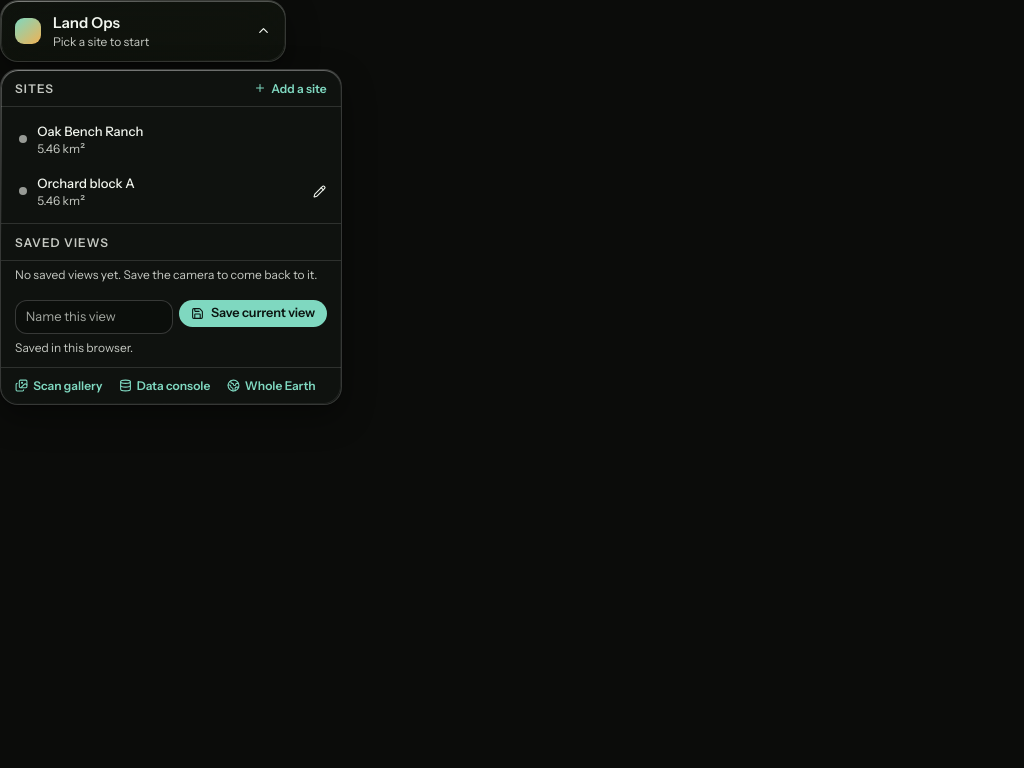
renaming a site in the switcher › saves the trimmed name and shows it in the row
Expected: the text "Orchard block A" is shown, [37, 175, 135, 191]
Click the button named "Rename Orchard block A". click: (319, 191)
box: [306, 177, 333, 205]
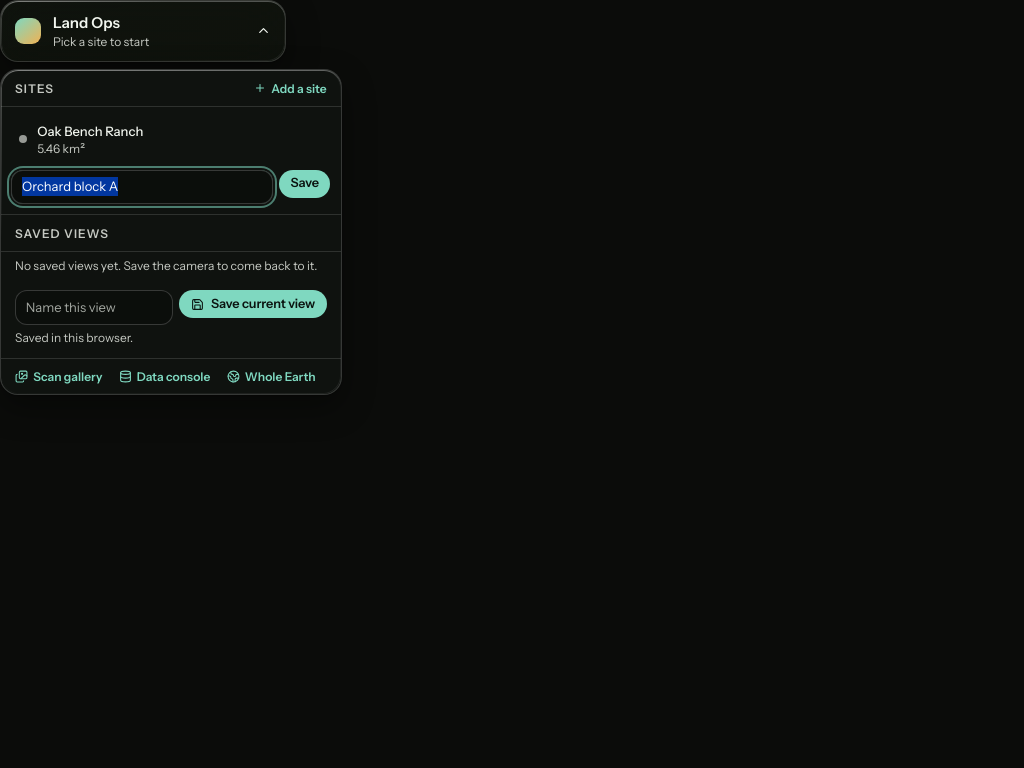
// A blank name cannot be saved.
Clear the field named "New name for Orchard block A". click: (142, 187)
box: [11, 170, 273, 204]
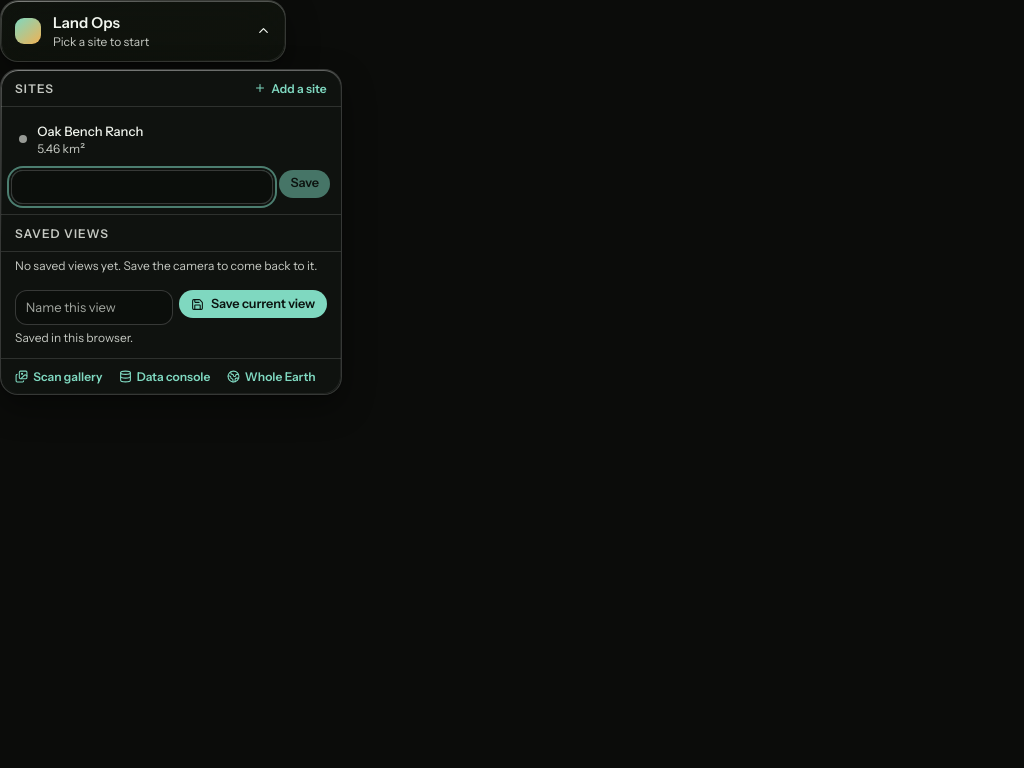
Result: the button "Save" is disabled at [279, 170, 330, 198]
Type "  North orchard  " into the field named "New name for Orchard block A". click: (142, 187)
box: [11, 170, 273, 204]
Then press Enter
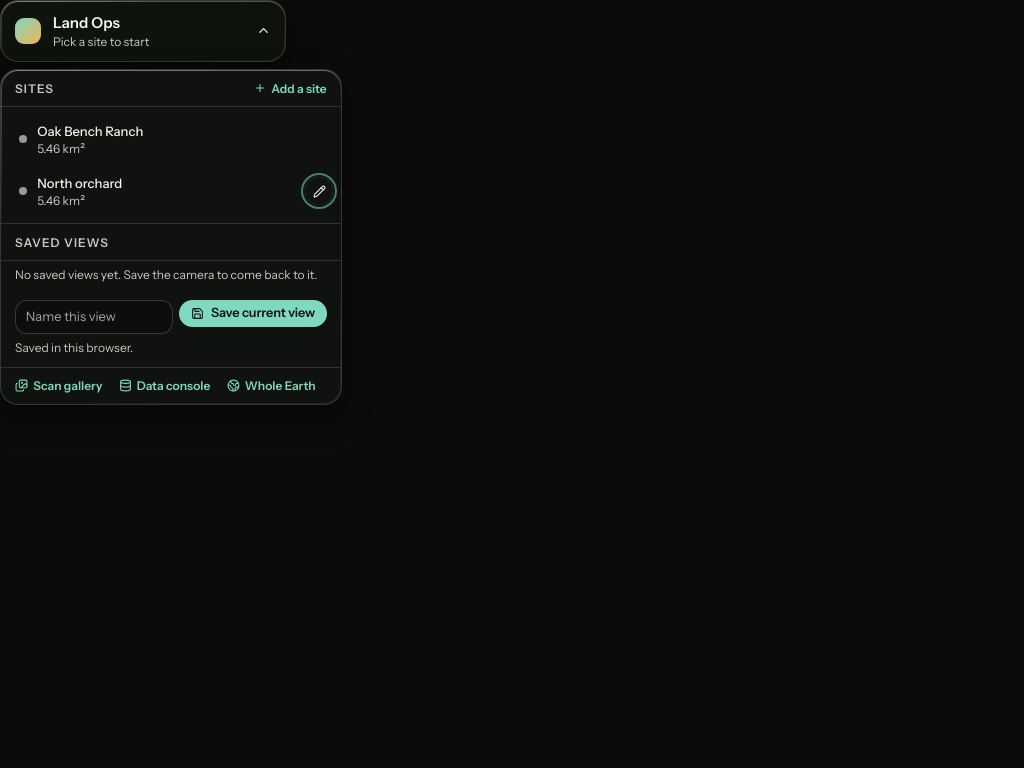
Result: the button with test id "site-row-orchard-block-a" shows "North orchard" at [8, 165, 303, 218]
